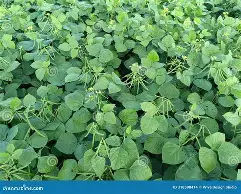crops: (0, 1, 238, 177)
